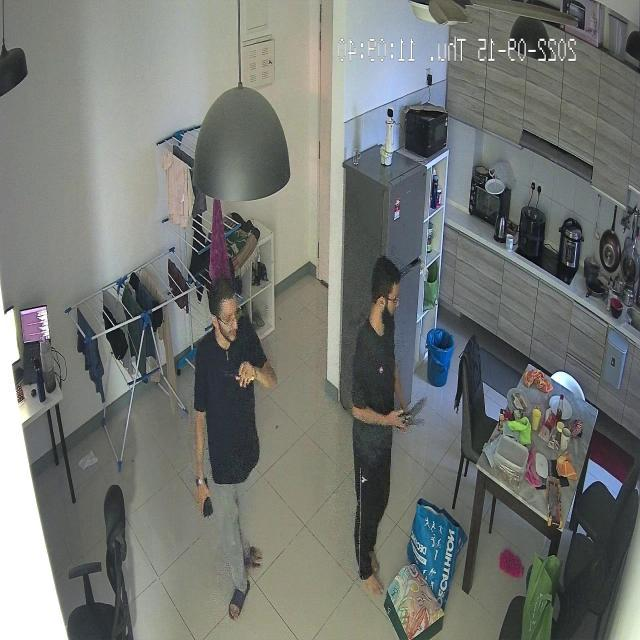Knife: (404, 385, 433, 427)
